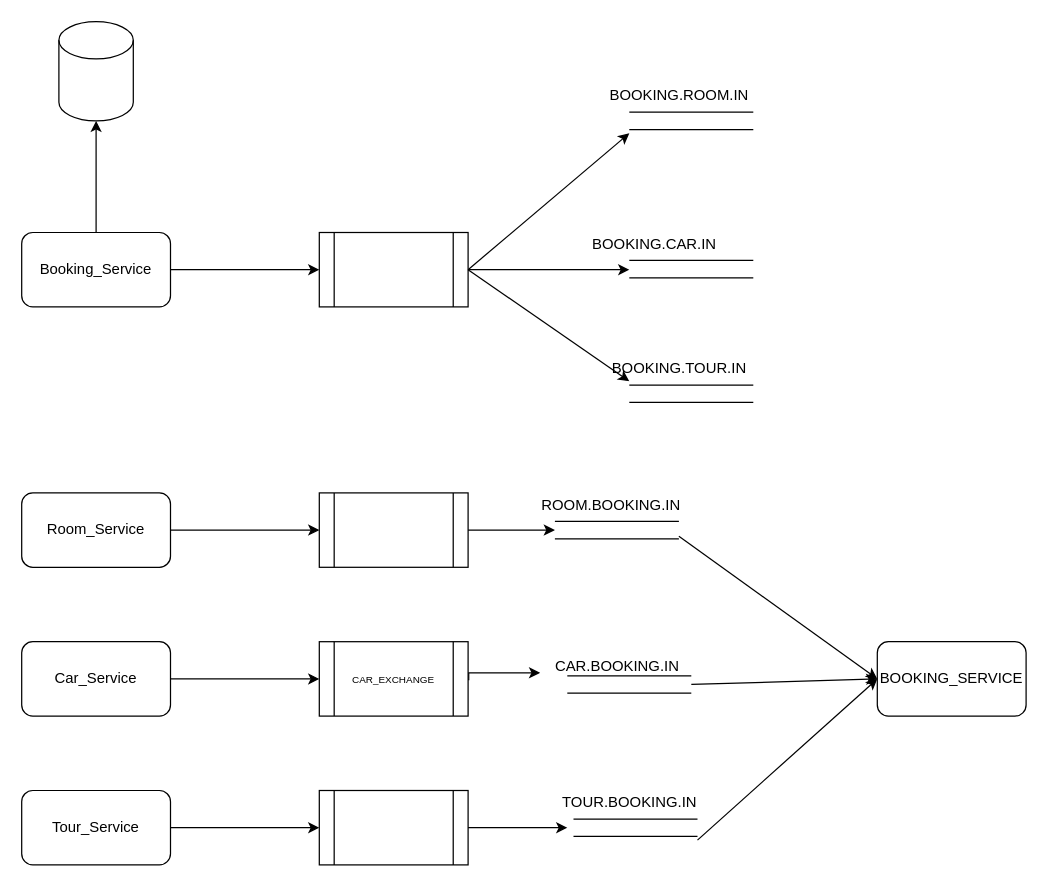
The diagram is 1048 pixels wide and 887 high, and some of its shapes have lost their labels. Here are the shapes that lost their labels. From the top down, the centre of each, then its label:
(x=393, y=269): BOOKING_EXCHANGE
(x=393, y=529): ROOM_EXCHANGE
(x=393, y=827): TOUR_EXCHANGE
